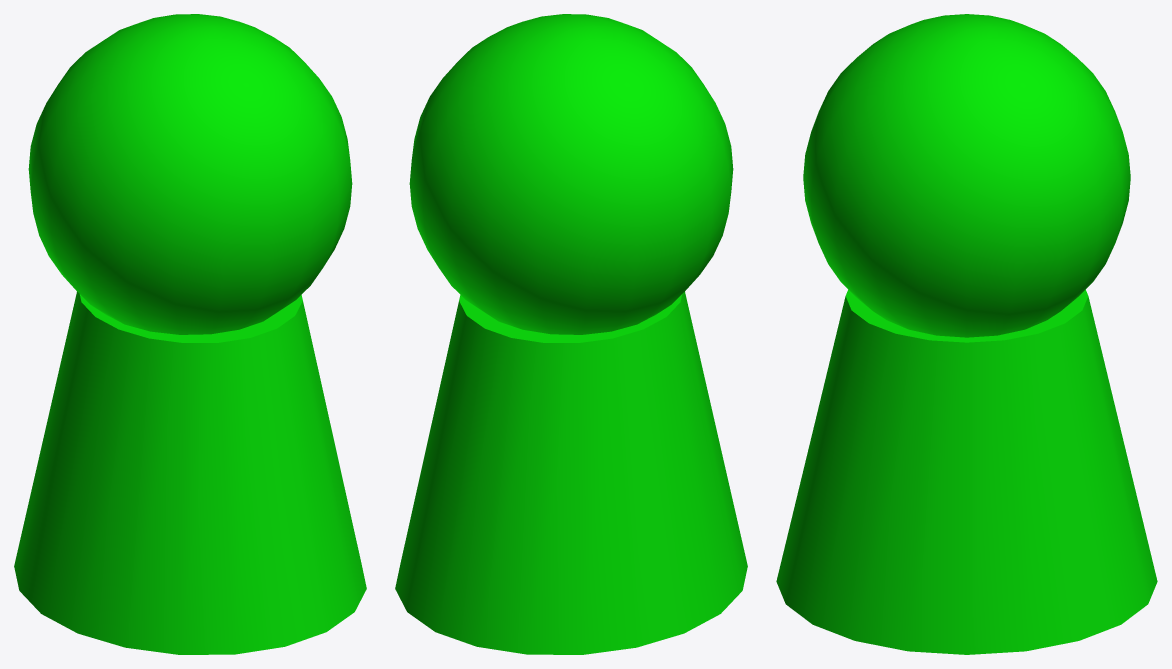
File: player_4.fbx
The picture shows the model from 3 angles, left to right: view 1: azimuth 30°, elevation 25°; view 2: azimuth 150°, elevation 25°; view 3: azimuth 270°, elevation 25°; orthographic projection.
Visible parts, largest first — view 1: pCylinder3; view 2: pCylinder3; view 3: pCylinder3.
Boxes of the visible parts, x1,y1,x2,y2 form: pCylinder3: (14, 14, 366, 654); pCylinder3: (395, 14, 747, 654); pCylinder3: (776, 14, 1157, 654).
Size of the model in its own units: 72.69 by 128 by 79.83.
